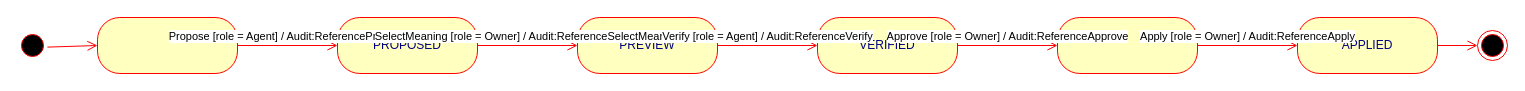
This 1525x91 diagram has some shape labels left out. Each missing label, with the box of its shape:
APPROVED: (1056, 16, 1198, 74)
DRAFT: (96, 16, 238, 74)
